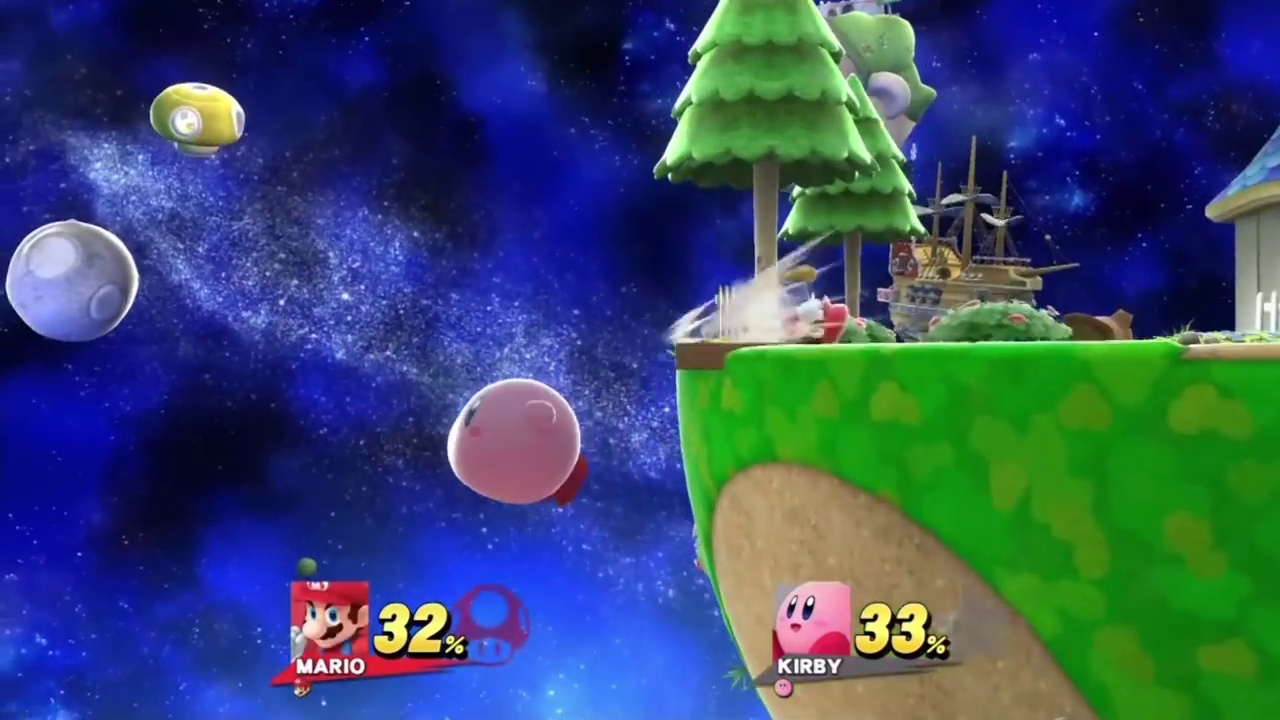Mario: (771, 265, 848, 345)
